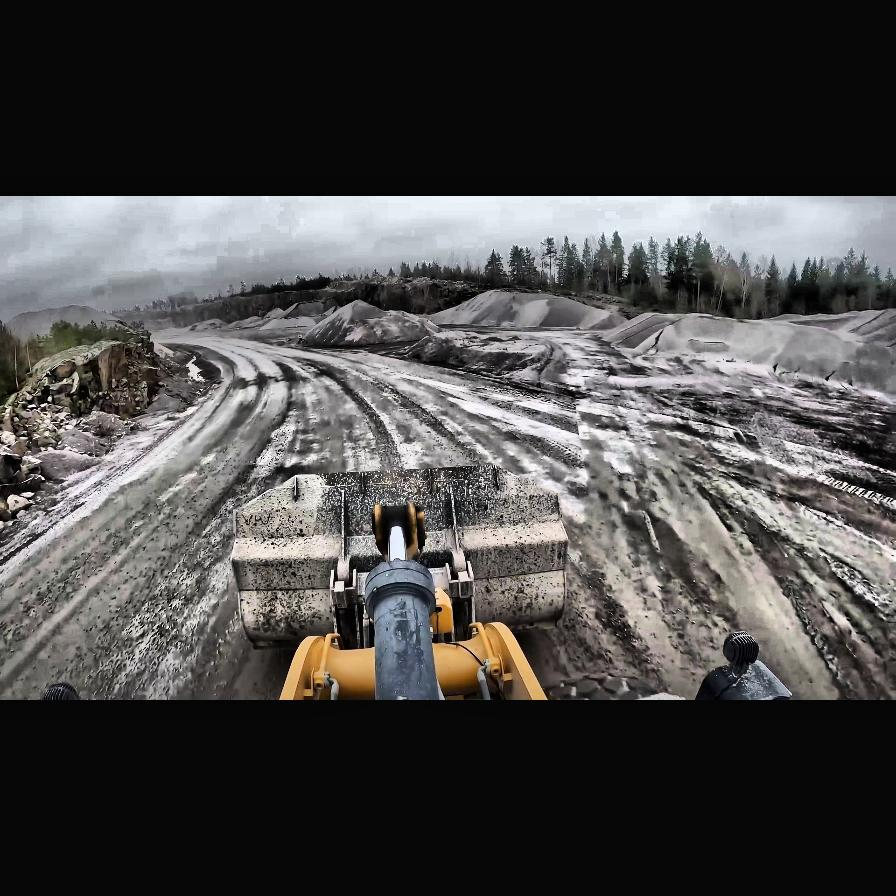anchor: (372, 502, 424, 560)
pile of gravel: (604, 305, 896, 397), (428, 286, 628, 332), (631, 313, 779, 363), (408, 329, 550, 381), (297, 300, 435, 348), (778, 308, 896, 336), (328, 298, 388, 320), (254, 311, 316, 331), (276, 299, 332, 319), (228, 310, 274, 328), (184, 318, 228, 332), (259, 306, 287, 320)
